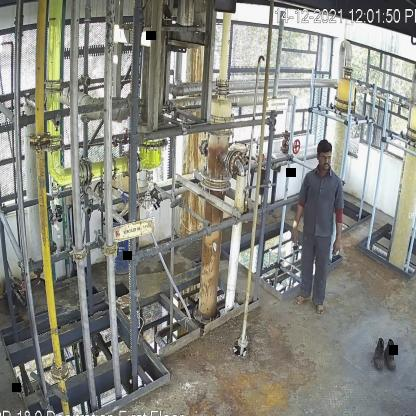no_shoes: (292, 294, 310, 305), (313, 303, 325, 317)
shoes: (372, 336, 388, 372), (385, 339, 398, 370)
